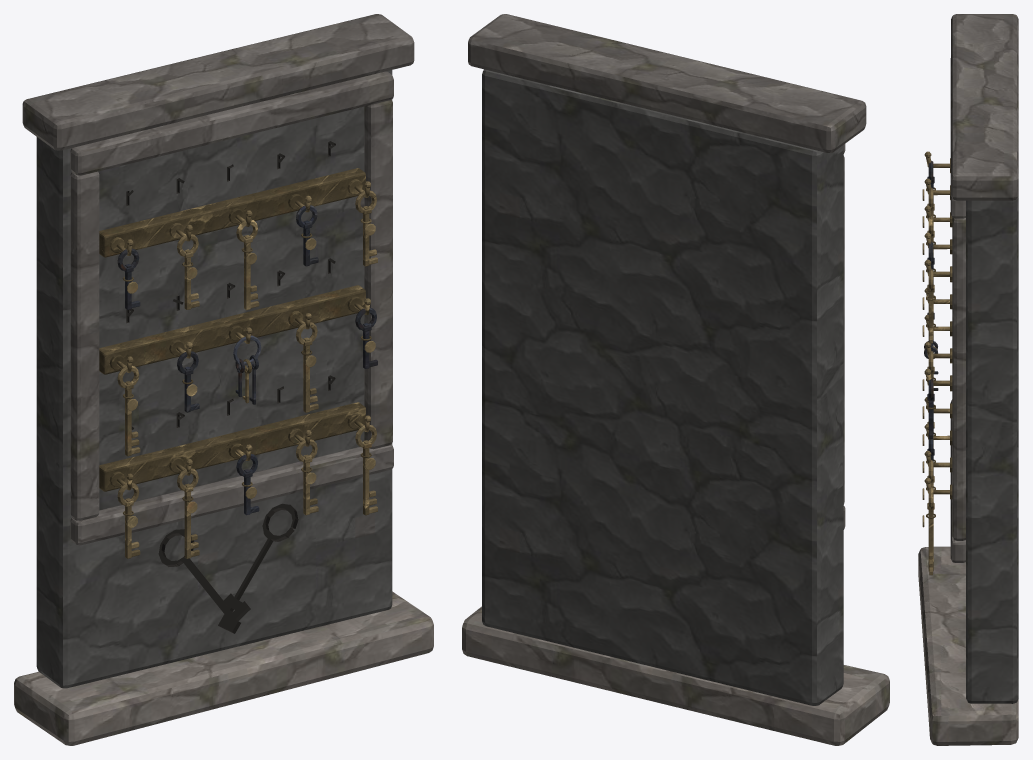
File: bv_key_rack.glb
3 renders of one model, left to right at view 1: azimuth 30°, elevation 25°; view 2: azimuth 150°, elevation 25°; view 3: azimuth 270°, elevation 25°, orthographic. The views are drawn at different scales.
Visible parts, largest first — view 1: model; view 2: model; view 3: model.
Part boxes in pixels (left/top/right/bottom): model: left=14, top=14, right=433, bottom=745; model: left=462, top=14, right=889, bottom=745; model: left=918, top=14, right=1018, bottom=745.
Bounding box in the file's own units: 1.08 × 1.67 × 0.2669.
Materials: 9 (8 with a texture image).
